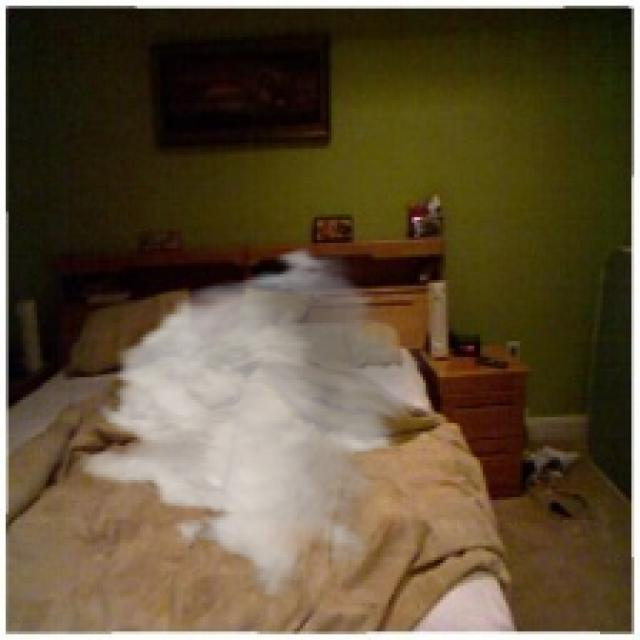smoke: (74, 246, 434, 600)
